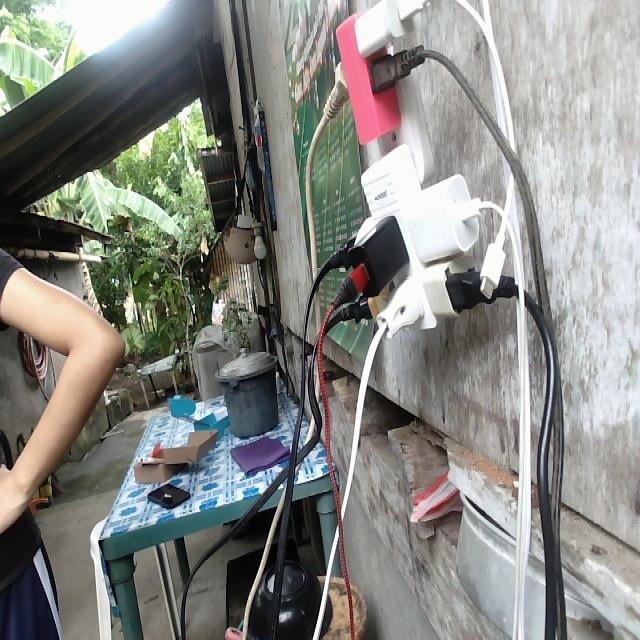-: (323, 1, 479, 335)
